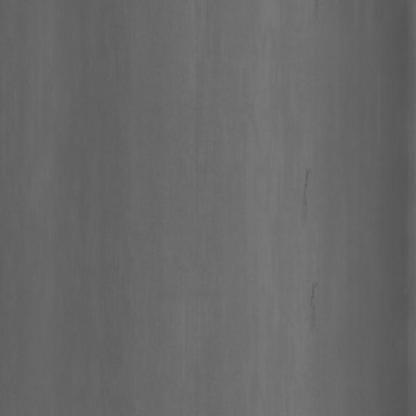water_spot: (288, 150, 322, 322)
